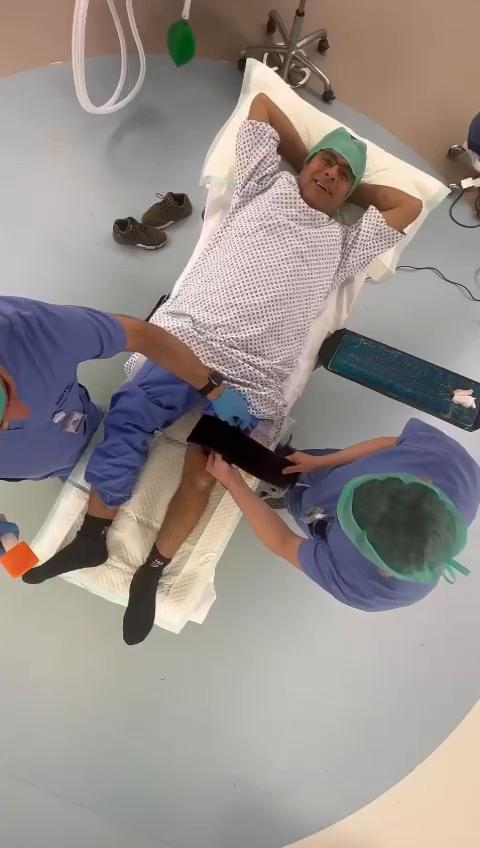bed: (25, 64, 448, 632)
patient: (23, 94, 422, 650)
prepstick: (0, 533, 38, 578)
tourniquet: (187, 414, 298, 489)
